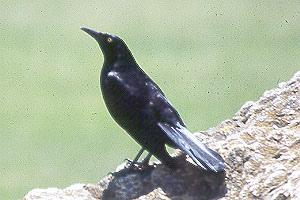009.Brewer_Blackbird: (79, 25, 228, 177)
